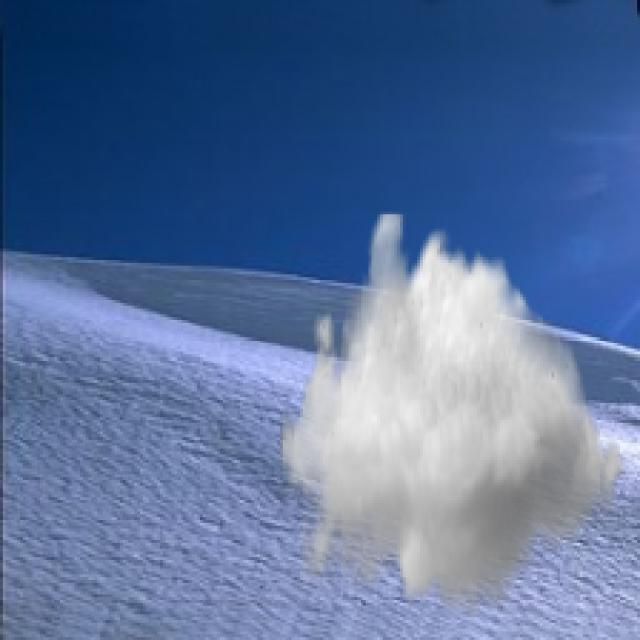Smoke: (279, 212, 632, 617)
